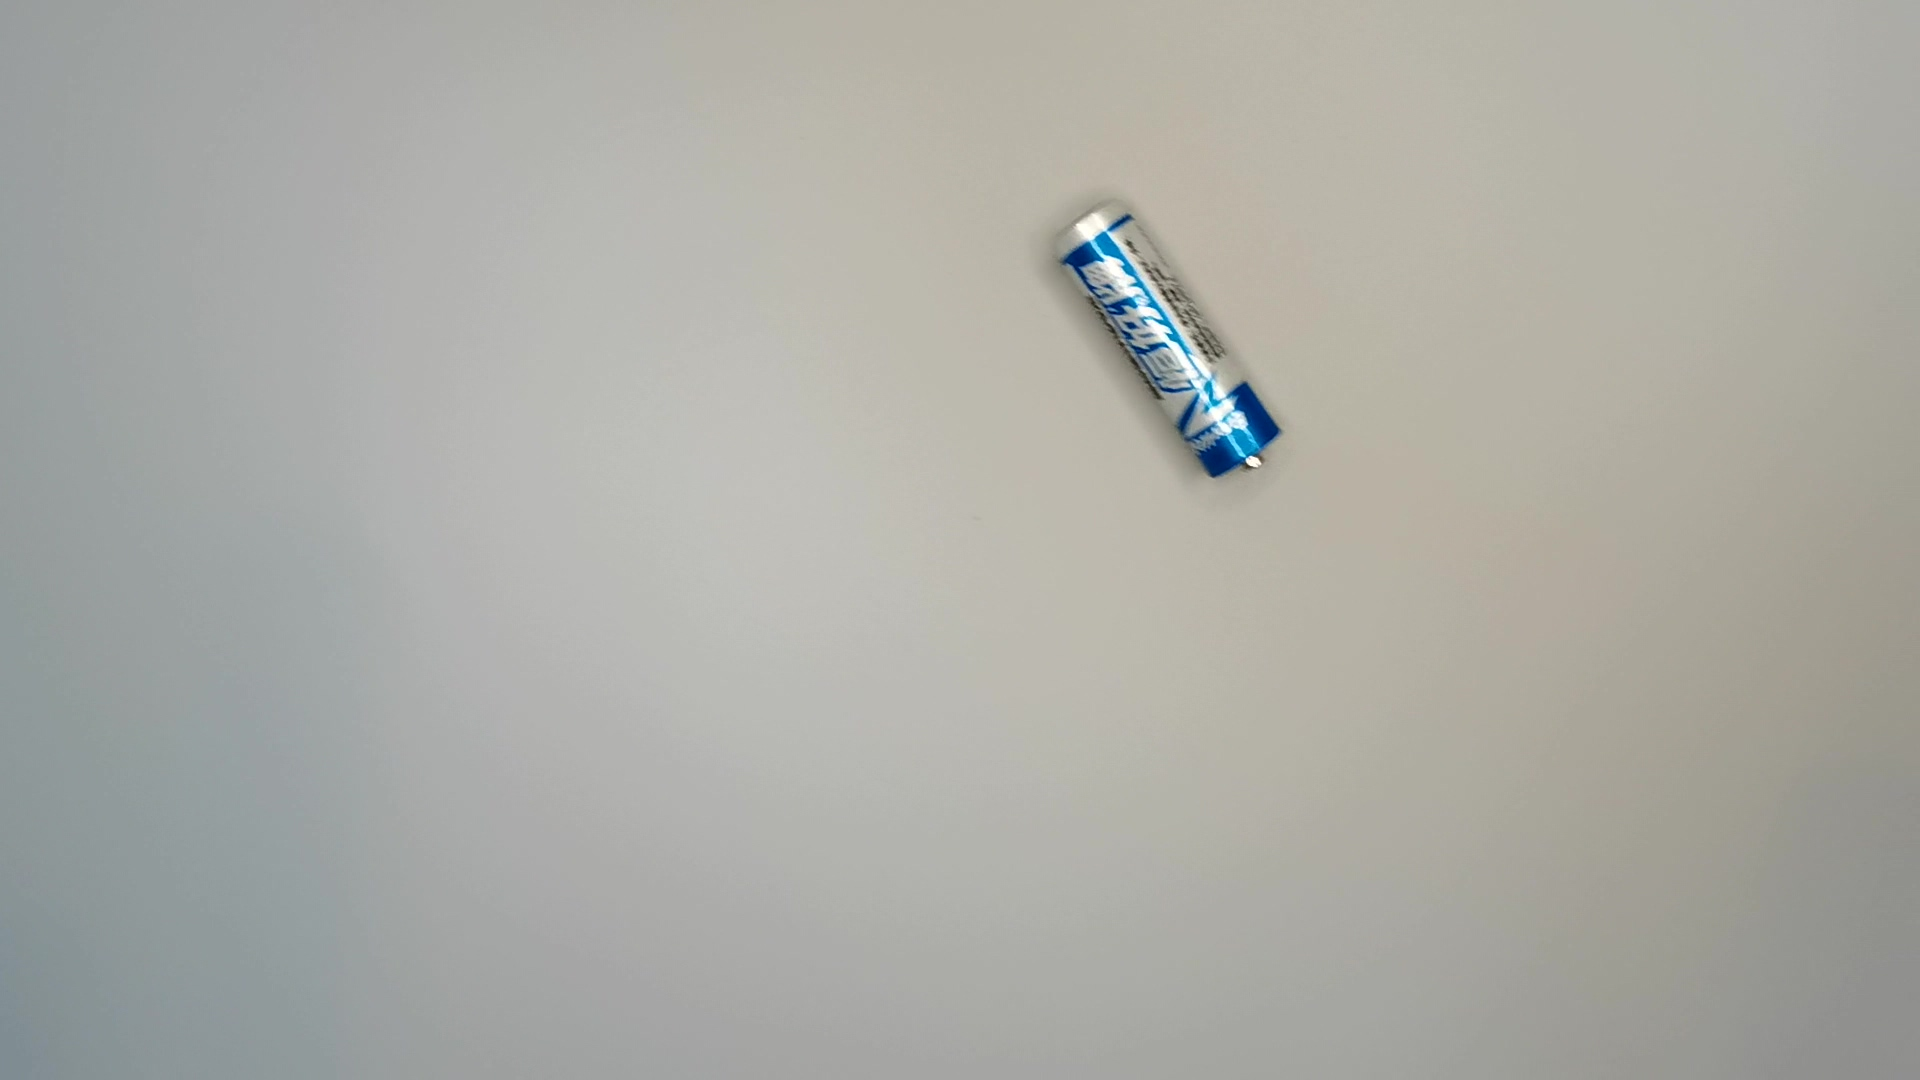battery: (1047, 193, 1288, 485)
